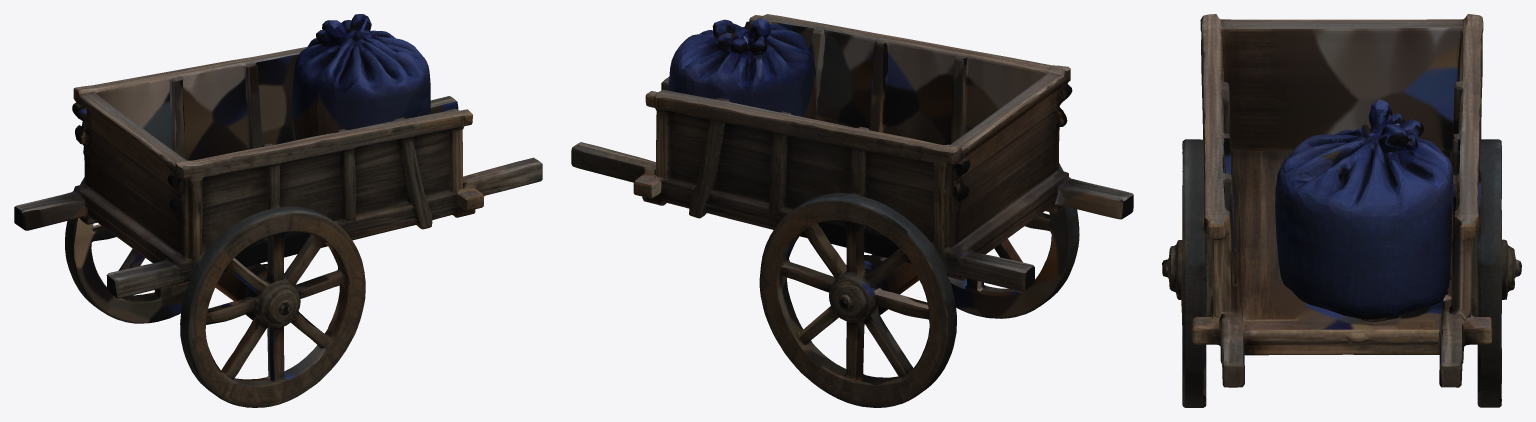
The model's file is traveler_env_coast_shutai_willow_cart_00001_.glb.
3 renders of one model, left to right at view 1: azimuth 30°, elevation 25°; view 2: azimuth 150°, elevation 25°; view 3: azimuth 270°, elevation 25°, orthographic. The views are drawn at different scales.
Visible parts, largest first — view 1: temp_mesh.ply; view 2: temp_mesh.ply; view 3: temp_mesh.ply.
Part boxes in pixels (box(x1,y1,x2,y2)): temp_mesh.ply: box(14, 14, 542, 407); temp_mesh.ply: box(571, 14, 1133, 407); temp_mesh.ply: box(1162, 14, 1521, 407).
Bounding box in the file's own units: 1.97 × 1.29 × 1.1.
1 material, 1 textured.
